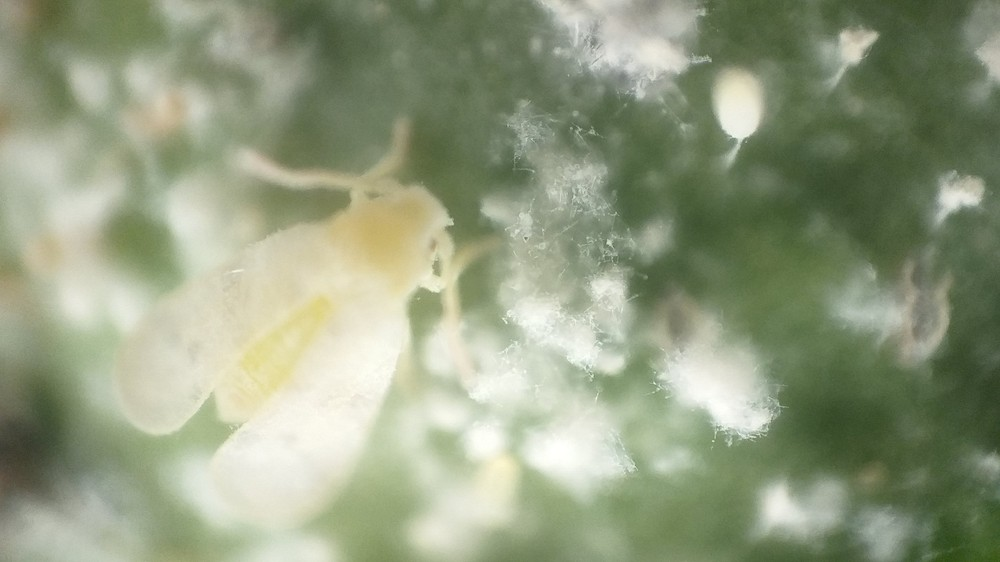Mosca Blanca: (108, 118, 495, 548)
